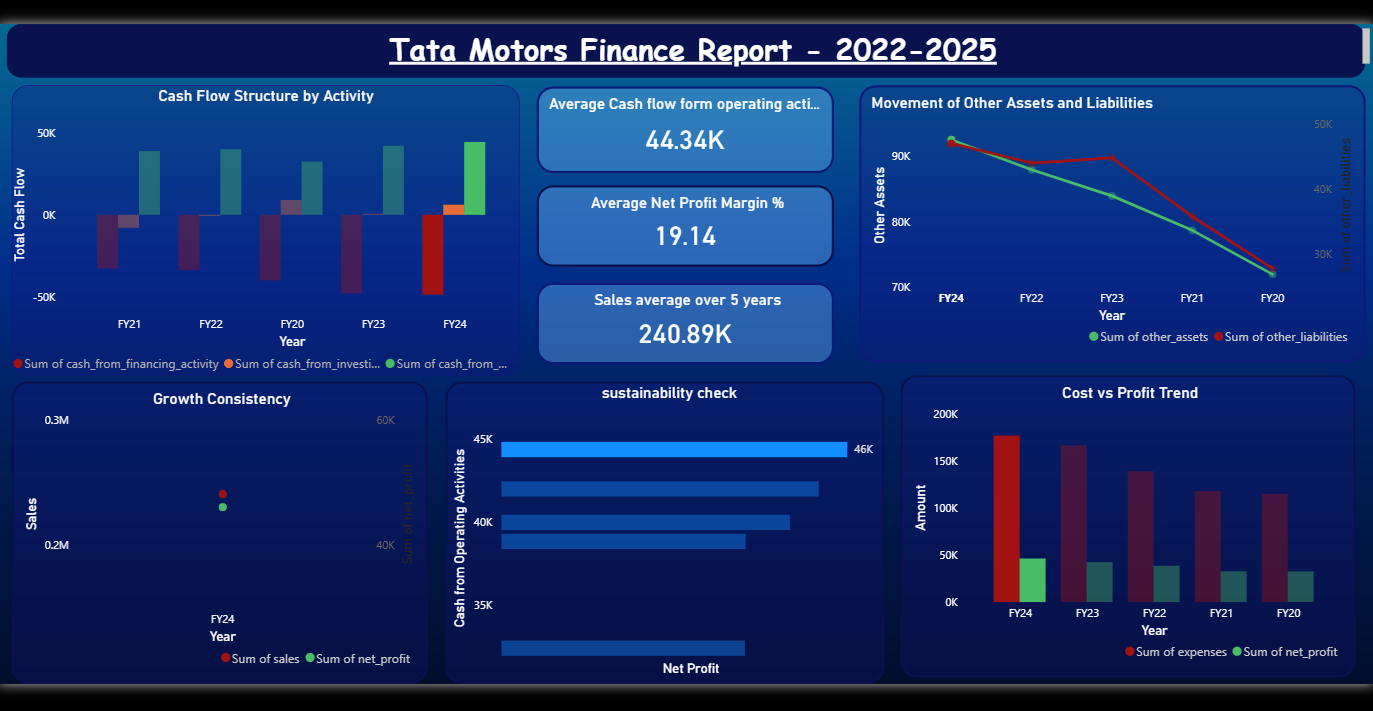

What the dashboard file says about the page in this screenshot:
{"tool":"powerbi","page":{"name":"Page 1","canvas":[1500,720],"ordinal":0},"visuals":[{"type":"textbox","box":[9.5,0,1481.2,58.6],"z":0},{"type":"card","title":"Sales average over 5 years","fields":{"Values":["Avg(income_statement.sales)"]},"box":[587.3,282.1,324.3,88.6],"z":1000},{"type":"card","title":"Average Net Profit Margin %","fields":{"Values":["Avg(income_statement.net_profit_margin_%)"]},"box":[587.3,175.8,324.3,88.6],"z":2000},{"type":"card","title":"Average Cash flow form operating activity","fields":{"Values":["Avg(cash_flow.cash_from_operating_activity)"]},"box":[587.3,68.1,324.3,94],"z":3000},{"type":"lineChart","title":"Growth Consistency","fields":{"Category":["income_statement.year"],"Y":["Sum(income_statement.sales)"],"Y2":["Sum(income_statement.net_profit)"]},"box":[15,389.7,453.8,329.8],"z":4000},{"type":"clusteredBarChart","title":"sustainability check","fields":{"Category":["tata_motors_kpis.cash_from_operating_activity"],"Y":["Sum(income_statement.net_profit)"]},"box":[487.8,389.7,478.3,329.8],"z":5000},{"type":"clusteredColumnChart","title":"Cash Flow Structure by Activity","fields":{"Category":["cash_flow.year"],"Y":["Sum(cash_flow.cash_from_financing_activity)","Sum(cash_flow.cash_from_investing_activity)","Sum(cash_flow.cash_from_operating_activity)"]},"box":[15,66.8,553.2,316.1],"z":6000},{"type":"clusteredColumnChart","title":"Cost vs Profit Trend","fields":{"Category":["income_statement.year"],"Y":["Sum(income_statement.expenses)","Sum(income_statement.net_profit)"]},"box":[983.8,382.9,496,329.8],"z":7000},{"type":"lineChart","title":"Movement of Other Assets and Liabilities","fields":{"Category":["balance_sheet.year"],"Y":["Sum(balance_sheet.other_assets)"],"Y2":["Sum(balance_sheet.other_liabilities)"]},"box":[938.9,66.8,551.9,302.5],"z":8000},{"type":"textbox","box":[421.1,0,750.8,51.8],"z":9000}]}

Visuals, with their boxes on the page's 1500x720 design canvas (x1, y1, x2, y2). These are canvas units, not pixel positions in the 1373x711 screenshot, which may show the page scaled, cropped or inside an application window:
textbox: 10,0,1491,59
"Sales average over 5 years" card: 587,282,912,371
"Average Net Profit Margin %" card: 587,176,912,264
"Average Cash flow form operating activity" card: 587,68,912,162
"Growth Consistency" lineChart: 15,390,469,720
"sustainability check" clusteredBarChart: 488,390,966,720
"Cash Flow Structure by Activity" clusteredColumnChart: 15,67,568,383
"Cost vs Profit Trend" clusteredColumnChart: 984,383,1480,713
"Movement of Other Assets and Liabilities" lineChart: 939,67,1491,369
textbox: 421,0,1172,52
